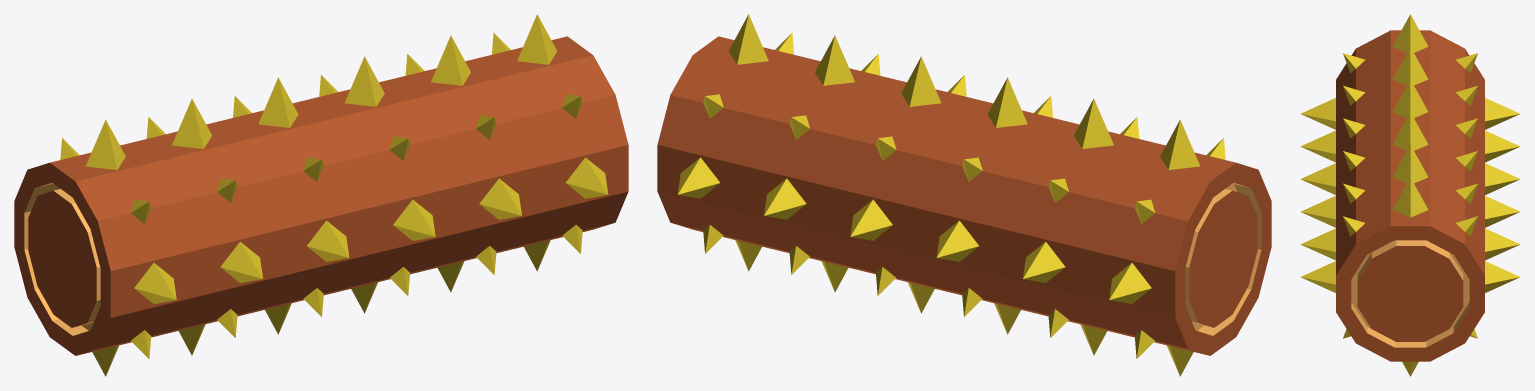
Rendered from sorn_log.fbx.
The picture shows the model from 3 angles, left to right: view 1: azimuth 30°, elevation 25°; view 2: azimuth 150°, elevation 25°; view 3: azimuth 270°, elevation 25°; orthographic projection. The views are drawn at different scales.
Parts seen in each view (by area): view 1: Mesh; view 2: Mesh; view 3: Mesh.
Boxes of the visible parts, x1,y1,x2,y2 form: Mesh: (14, 14, 628, 376); Mesh: (657, 14, 1271, 376); Mesh: (1300, 14, 1520, 376).
Size of the model in its own units: 1.5 by 0.7133 by 0.7133.
